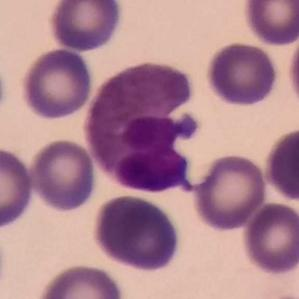Eosinophil: (83, 60, 202, 197)
Platelets: (169, 111, 203, 142)
RBC: (89, 192, 183, 273), (191, 152, 269, 232), (26, 136, 100, 214), (19, 47, 95, 121), (204, 40, 280, 108), (240, 200, 299, 277), (46, 0, 126, 54), (34, 260, 126, 299), (0, 144, 36, 232), (262, 125, 299, 204), (241, 0, 299, 47), (285, 27, 299, 115)
